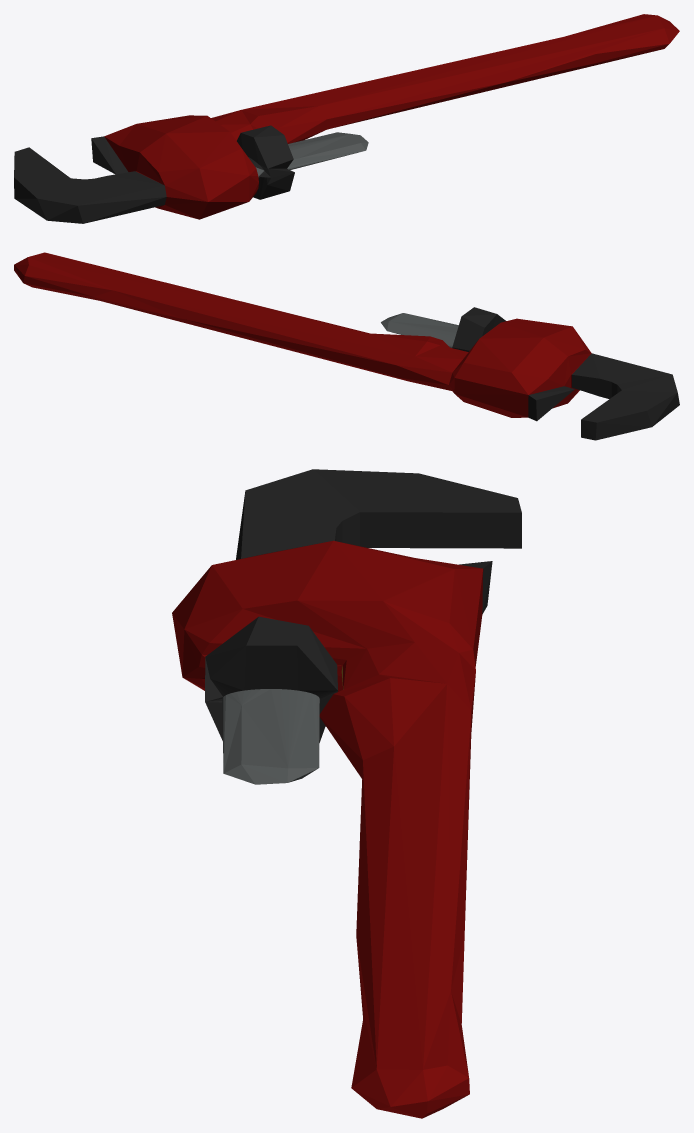
Rendered from Model_Klucz.fbx.
3 views of the same model, one above another, from view 1: azimuth 30°, elevation 25°; view 2: azimuth 150°, elevation 25°; view 3: azimuth 270°, elevation 25° (orthographic). The views are drawn at different scales.
Parts seen in each view (by area): view 1: Klucz; view 2: Klucz; view 3: Klucz.
Boxes of the visible parts, x1,y1,x2,y2 form: Klucz: [14, 14, 679, 223]; Klucz: [14, 252, 679, 440]; Klucz: [172, 469, 521, 1118].
Bounding box in the file's own units: 14 × 6.36 × 58.7.
